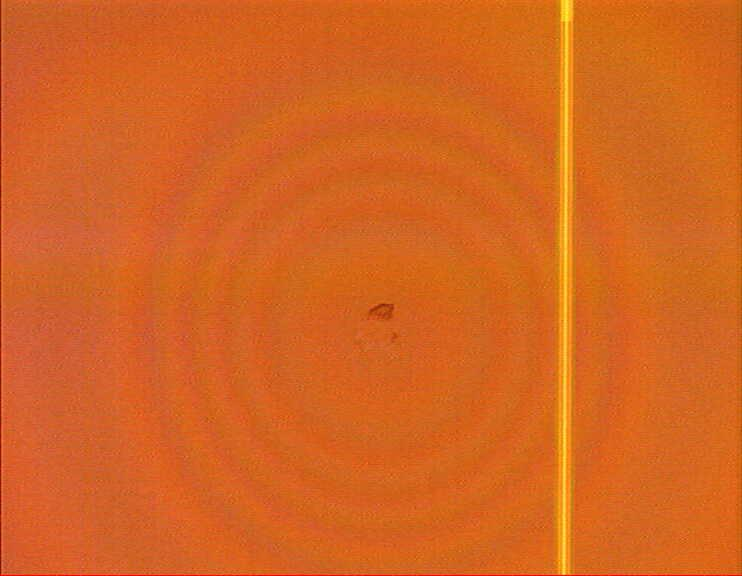PIQ PARTICLE: (367, 299, 397, 324)
